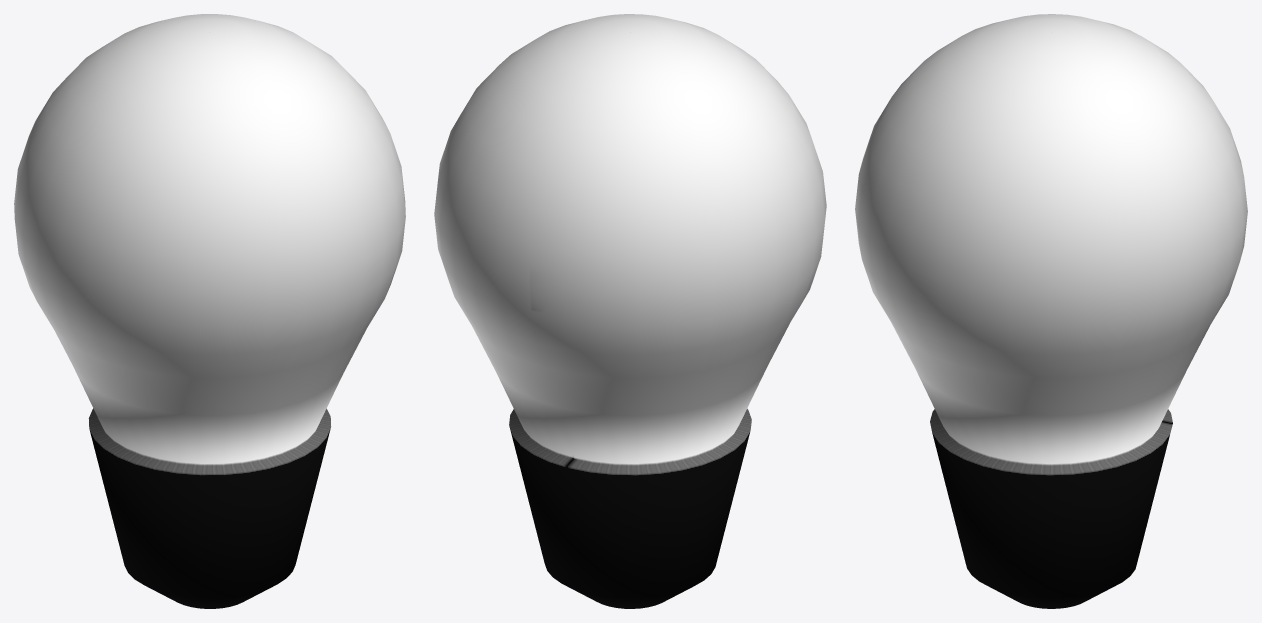
Rendered from bulb.fbx.
3 renders of one model, left to right at view 1: azimuth 30°, elevation 25°; view 2: azimuth 150°, elevation 25°; view 3: azimuth 270°, elevation 25°, orthographic.
Parts seen in each view (by area): view 1: Cube.001; view 2: Cube.001; view 3: Cube.001.
Boxes of the visible parts, left/top/right/bottom form: Cube.001: left=14, top=14, right=405, bottom=608; Cube.001: left=434, top=14, right=826, bottom=608; Cube.001: left=855, top=14, right=1247, bottom=608.
Size of the model in its own units: 2 by 3.14 by 2.
